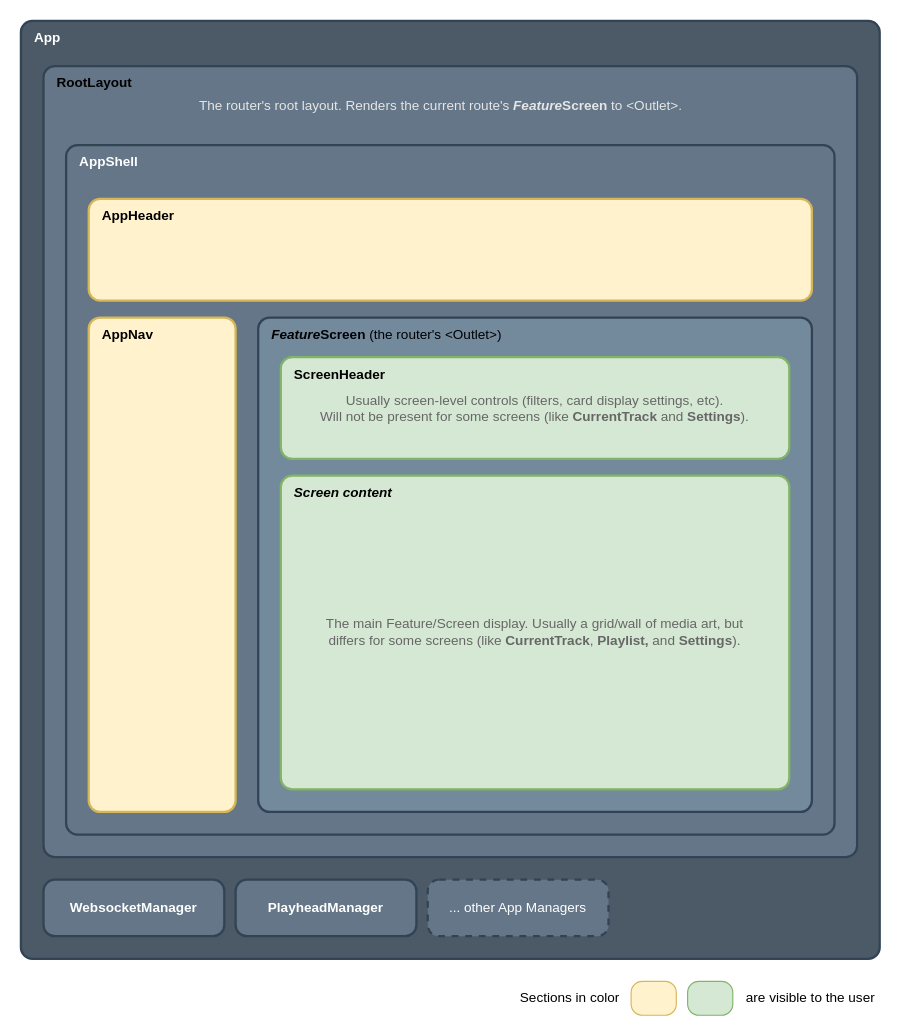
This 899x1035 diagram has some shape labels left out. The box of each missing label's shape, as (x1, y1, x2, y2) in pixels:
Contains AppLogo and PlaybackControls: (87, 197, 812, 301)
Screen navigator: (87, 316, 236, 812)
